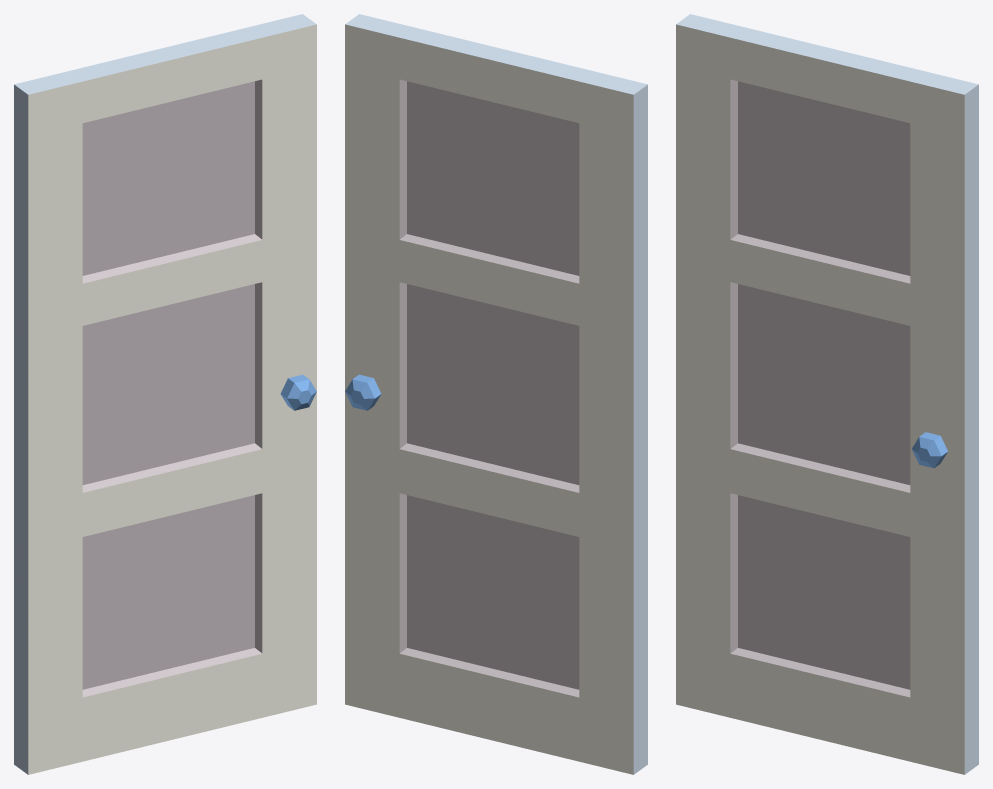
Rendered from door.fbx.
The picture shows the model from 3 angles, left to right: view 1: azimuth 30°, elevation 25°; view 2: azimuth 150°, elevation 25°; view 3: azimuth 330°, elevation 25°; orthographic projection.
Visible parts, largest first — view 1: sence_1; view 2: sence_1; view 3: sence_1.
Boxes of the visible parts, <box> form: sence_1: <box>14,14,316,774</box>; sence_1: <box>345,14,647,774</box>; sence_1: <box>676,14,978,774</box>.
Size of the model in its own units: 0.1134 by 0.2554 by 0.0293.
Materials: 1 (1 with a texture image).
